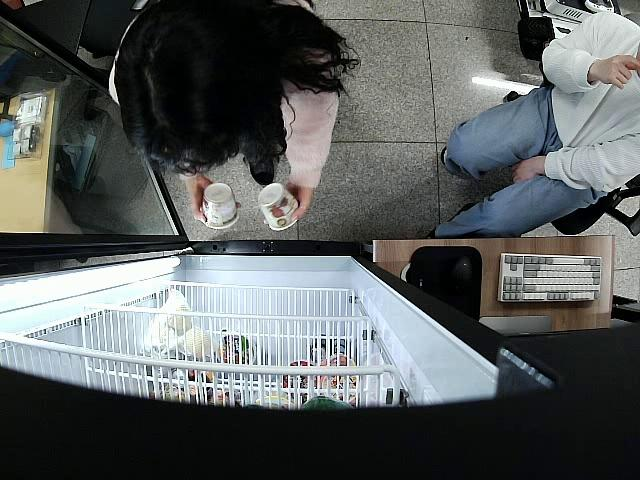00_hand: (187, 177, 243, 224), (264, 179, 312, 223)
04_chapagetti_S: (197, 184, 239, 231), (259, 183, 299, 231)
